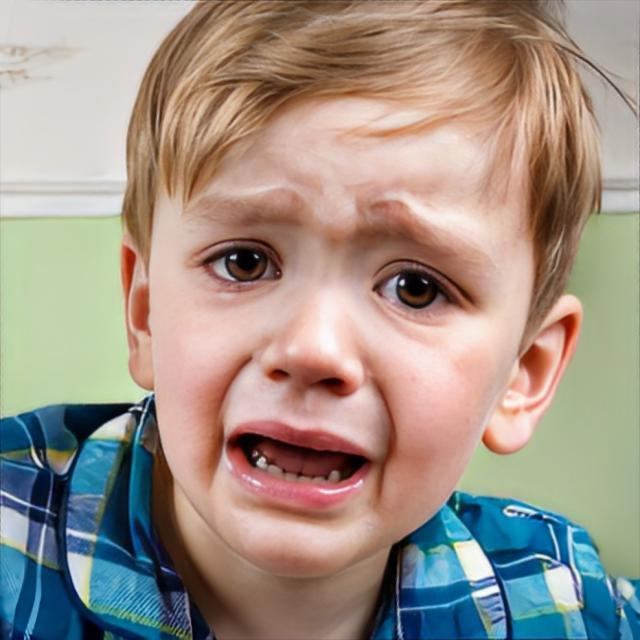sad: (148, 74, 538, 582)
